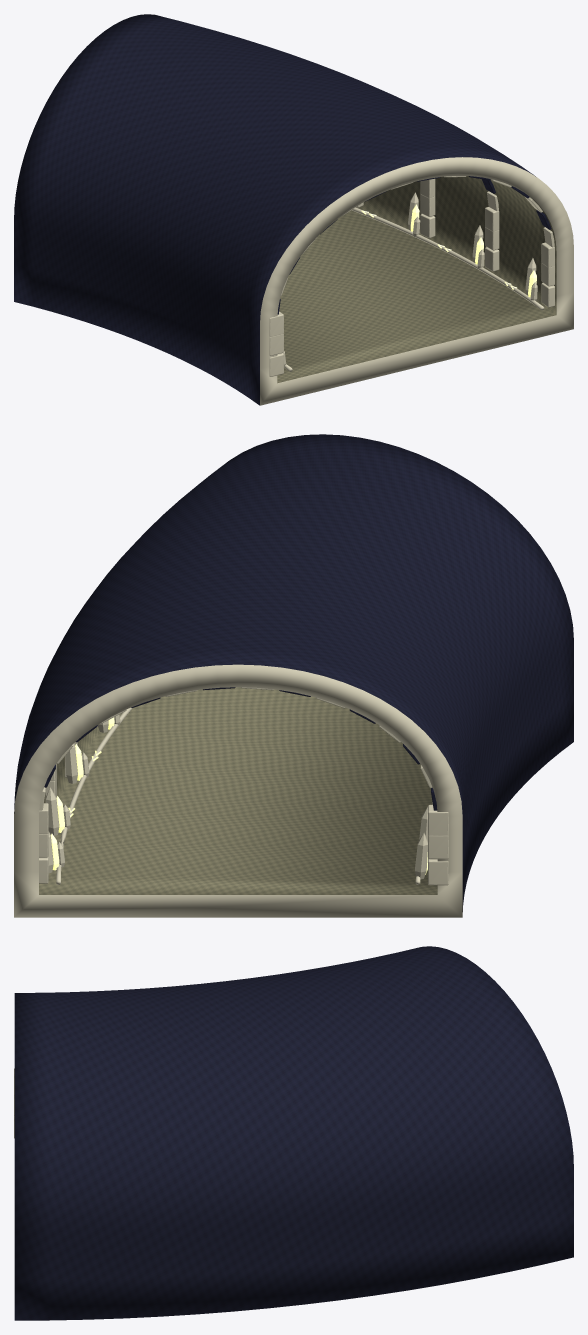
File: curve_left_30.glb
The picture shows the model from 3 angles, top to bottom: view 1: azimuth 30°, elevation 25°; view 2: azimuth 150°, elevation 25°; view 3: azimuth 270°, elevation 25°; orthographic projection. The views are drawn at different scales.
Visible parts, largest first — view 1: TunnelGeometry; view 2: TunnelGeometry; view 3: TunnelGeometry.
Part boxes in pixels (<box>): TunnelGeometry: <box>14,14,573,405</box>; TunnelGeometry: <box>14,434,573,917</box>; TunnelGeometry: <box>14,946,573,1320</box>.
Size of the model in its own units: 19.1 by 9.52 by 21.85.
Materials: 4 (2 with a texture image).
